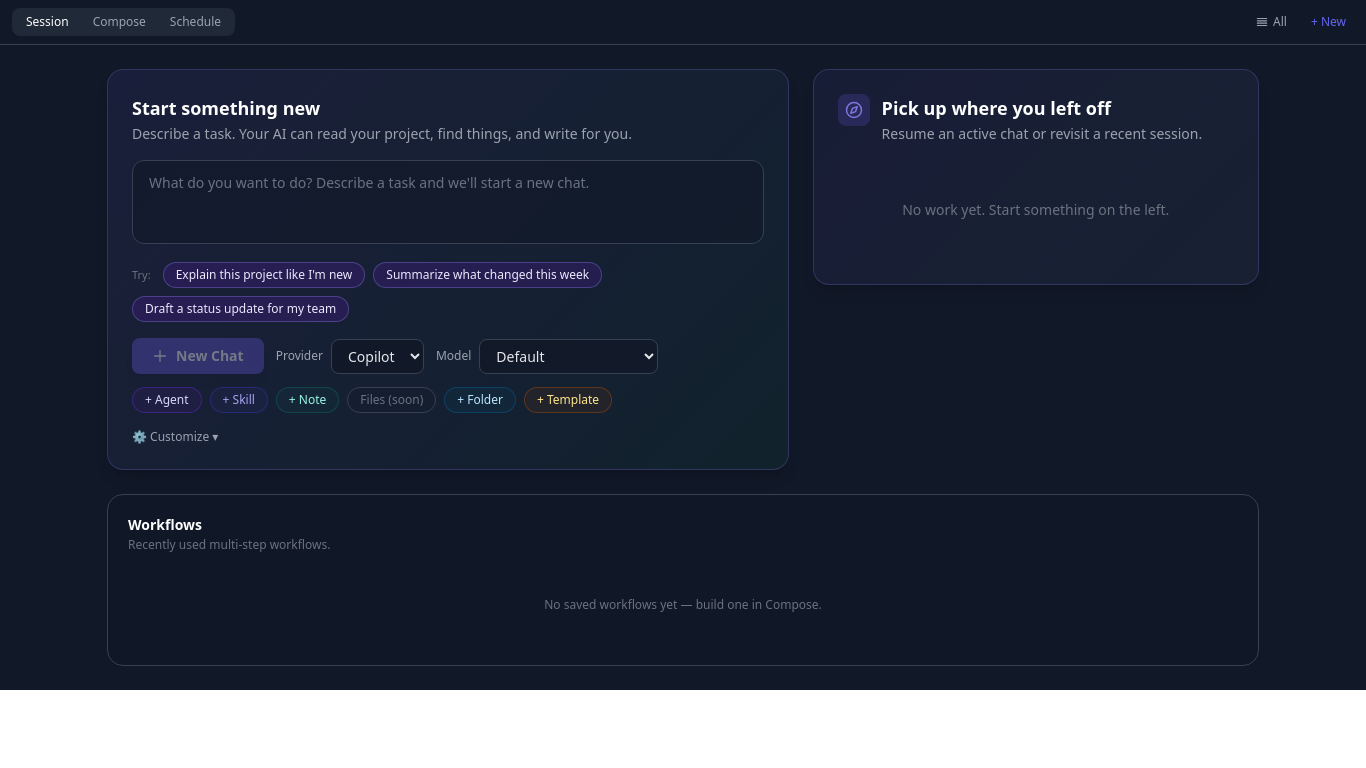
Test: Work › still renders the gear after starting a session
Click the button "+ New": (1328, 22) [1303, 10, 1354, 34]
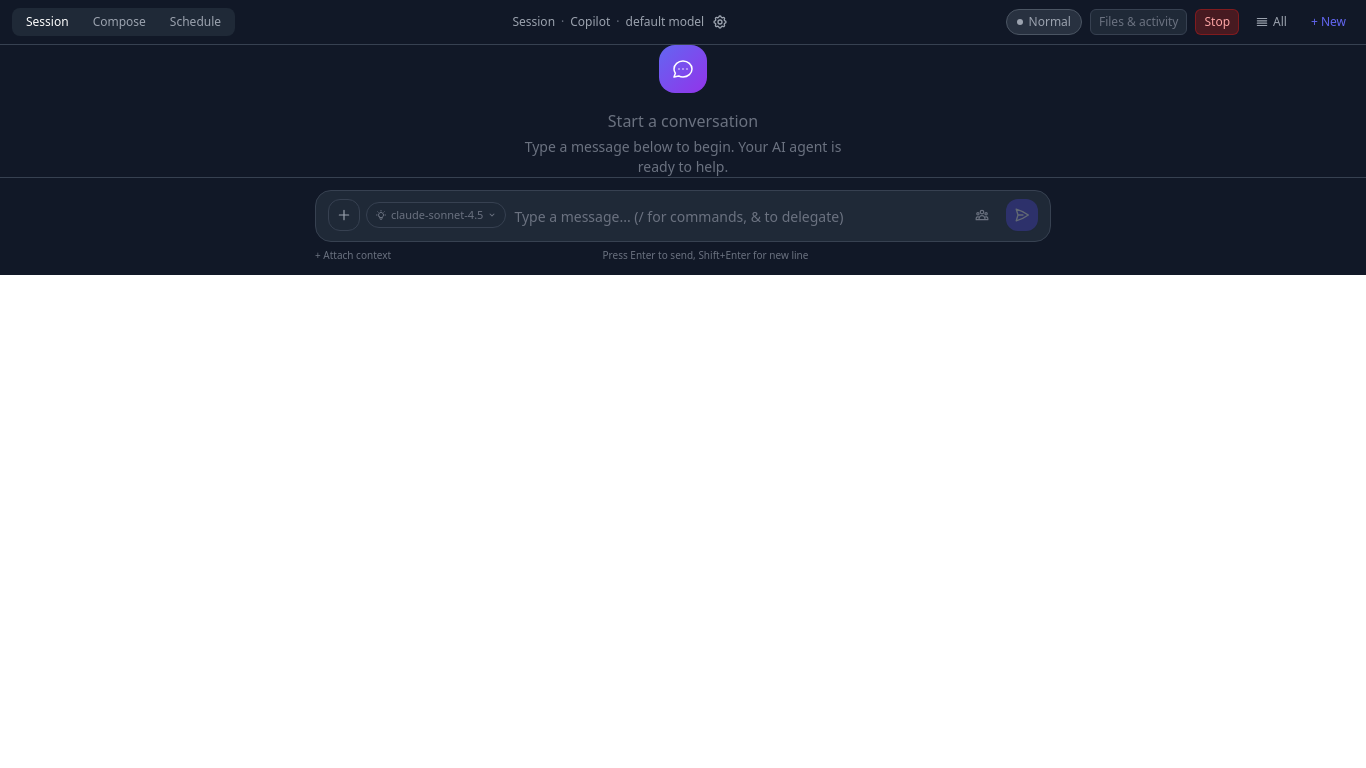
expect the button titled "Edit session" is shown: met, box [712, 14, 728, 30]
